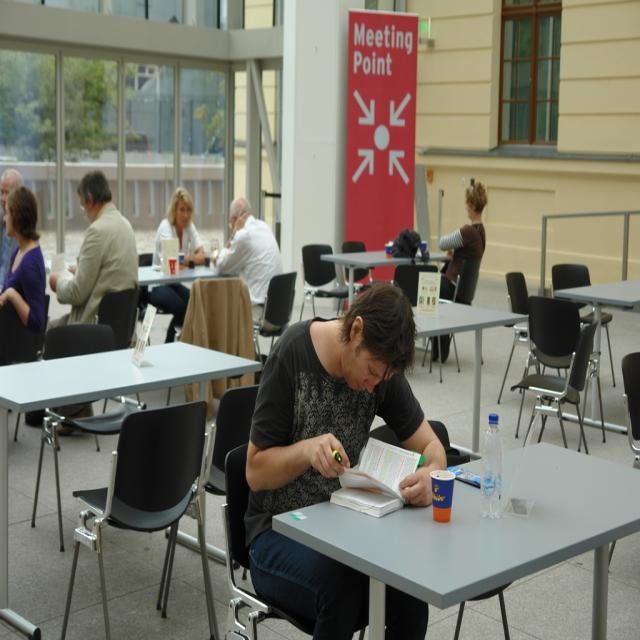chair: (60, 400, 216, 637), (31, 320, 121, 546), (222, 445, 312, 637), (515, 303, 600, 452), (178, 276, 261, 424), (497, 271, 532, 402), (255, 269, 297, 364), (300, 244, 348, 318), (97, 284, 139, 349), (620, 350, 640, 465), (341, 239, 372, 300)
desk: (255, 423, 622, 639)
person: (243, 280, 448, 636), (46, 170, 140, 339), (148, 187, 207, 339), (0, 184, 48, 360), (211, 196, 283, 313), (438, 180, 489, 302), (0, 168, 22, 292)
